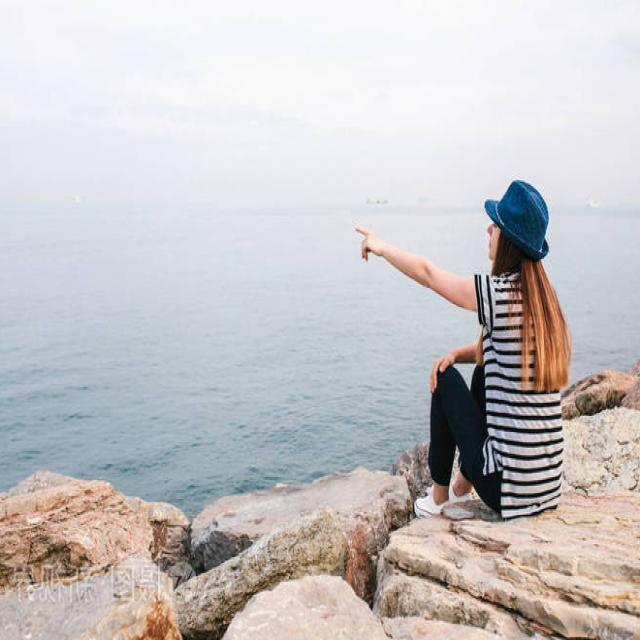reef: (35, 378, 338, 640)
